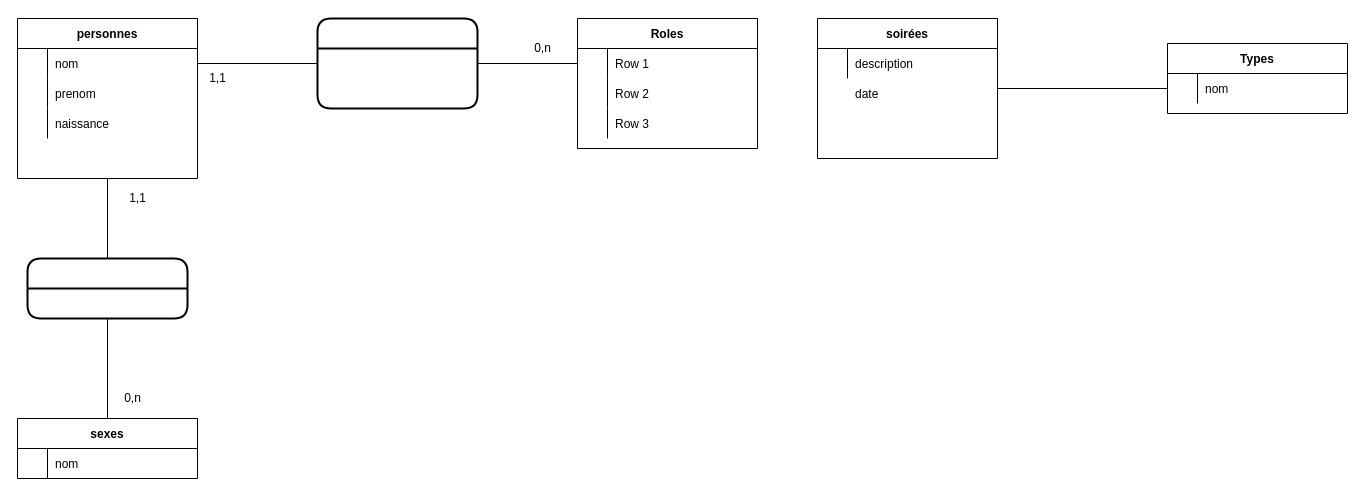
Some shapes in this 1365 by 496 pixel diagram are drawn without their labels. Each missing label, with the centre of its shape:
avoir: pixel 397 63
etre: pixel 107 288
